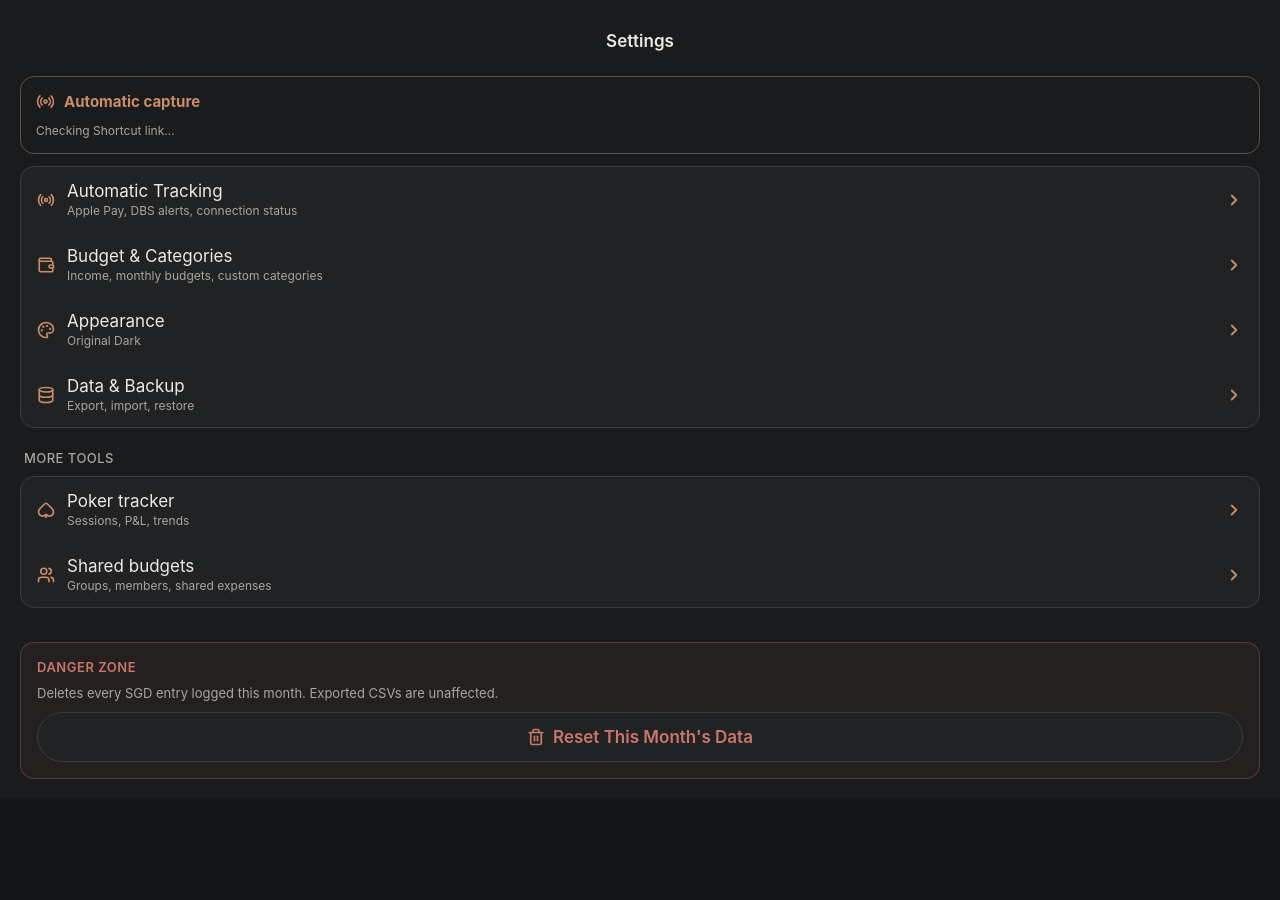
Scenario: Settings hub › resets only the current month after confirming the number of affected entries
Click the button "Reset This Month's Data": (640, 737) [37,712,1243,762]
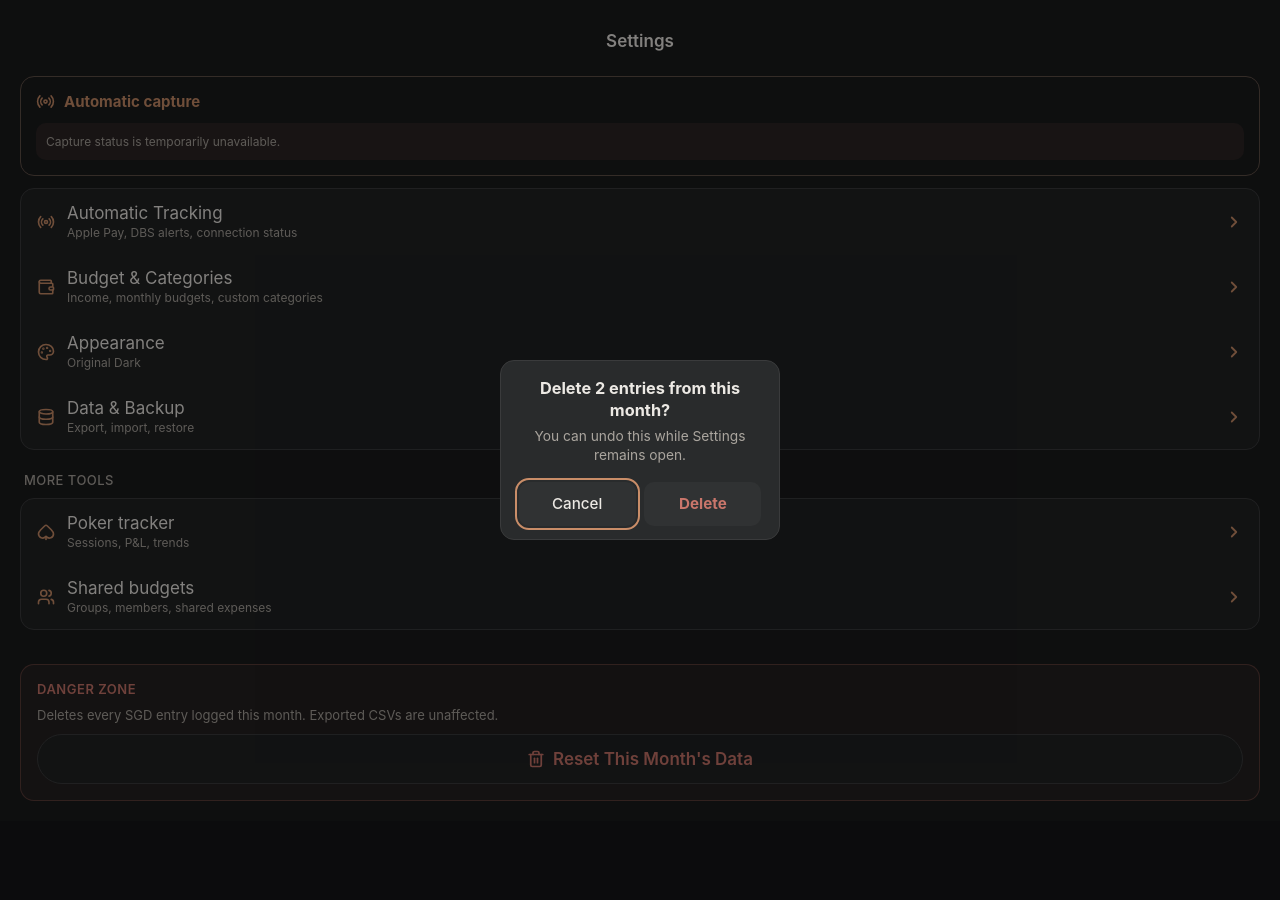
Check: the text "You can undo this while Settings remains open." is shown, box [519,427,761,466]
Click the button "Delete": (703, 504) [644,482,761,526]
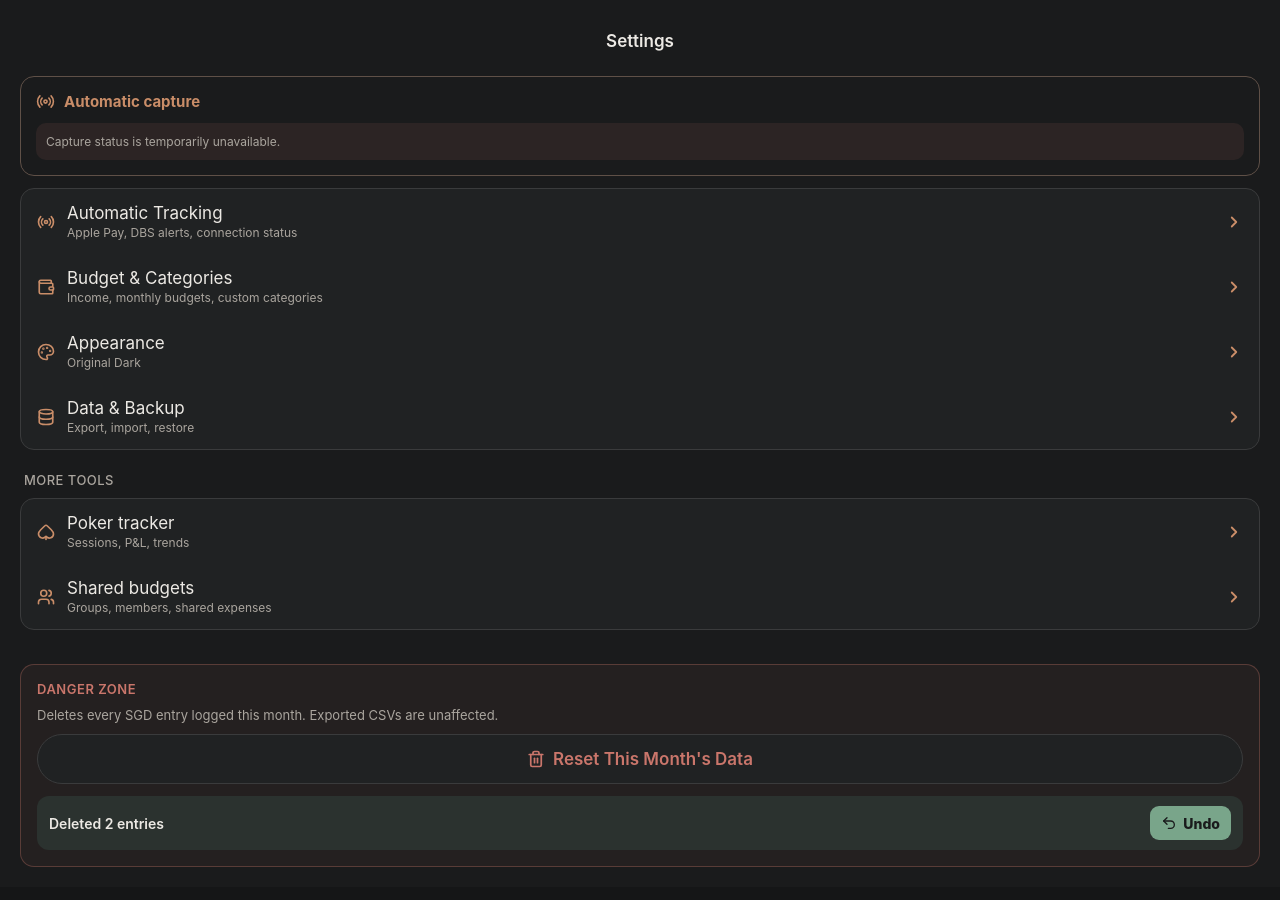
Check: the button "Undo" is enabled, box [1150,806,1231,840]
Check: the text "Deleted 2 entries" is shown, box [49,815,164,832]
